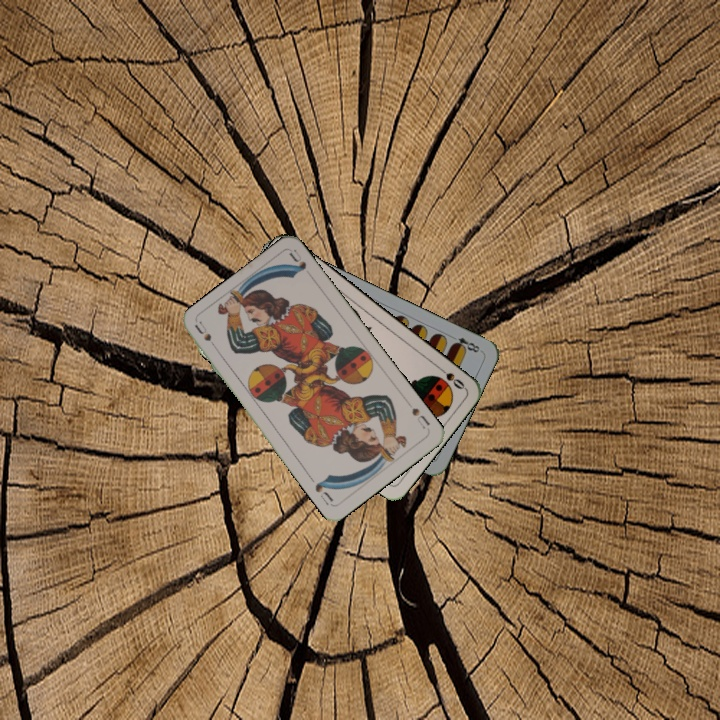E8: (446, 331, 484, 355)
SO: (433, 362, 467, 392)
SU: (191, 318, 222, 355), (407, 404, 433, 432)
